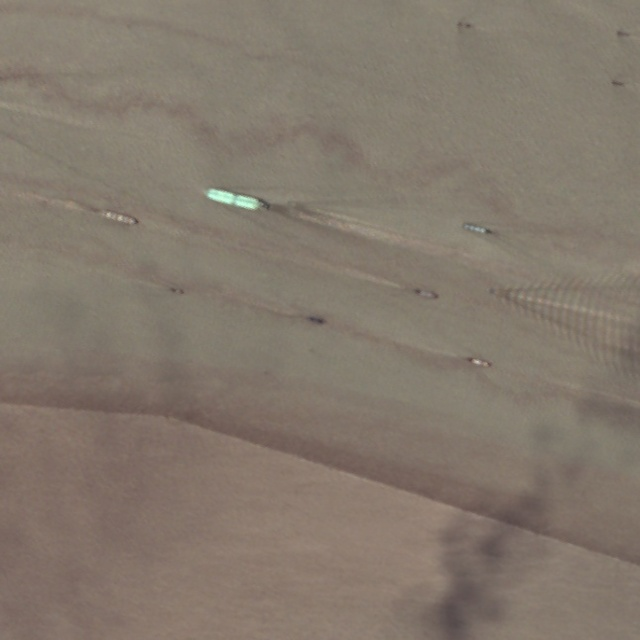wake: (477, 261, 629, 347)
